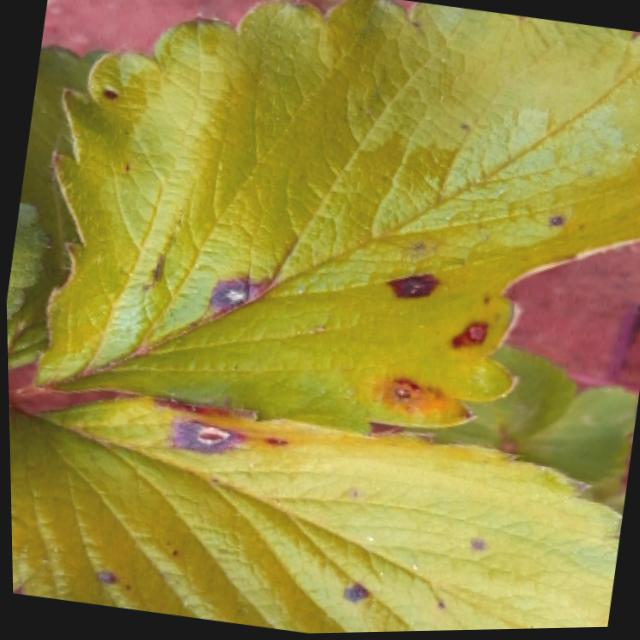Leaf Spot: (28, 0, 640, 437), (7, 396, 620, 635)
